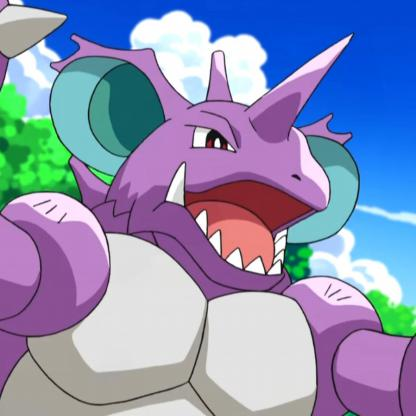Nidoking: (1, 7, 416, 416)
